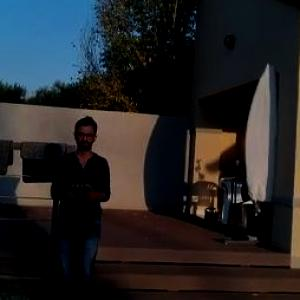follow: (44, 110, 117, 299)
